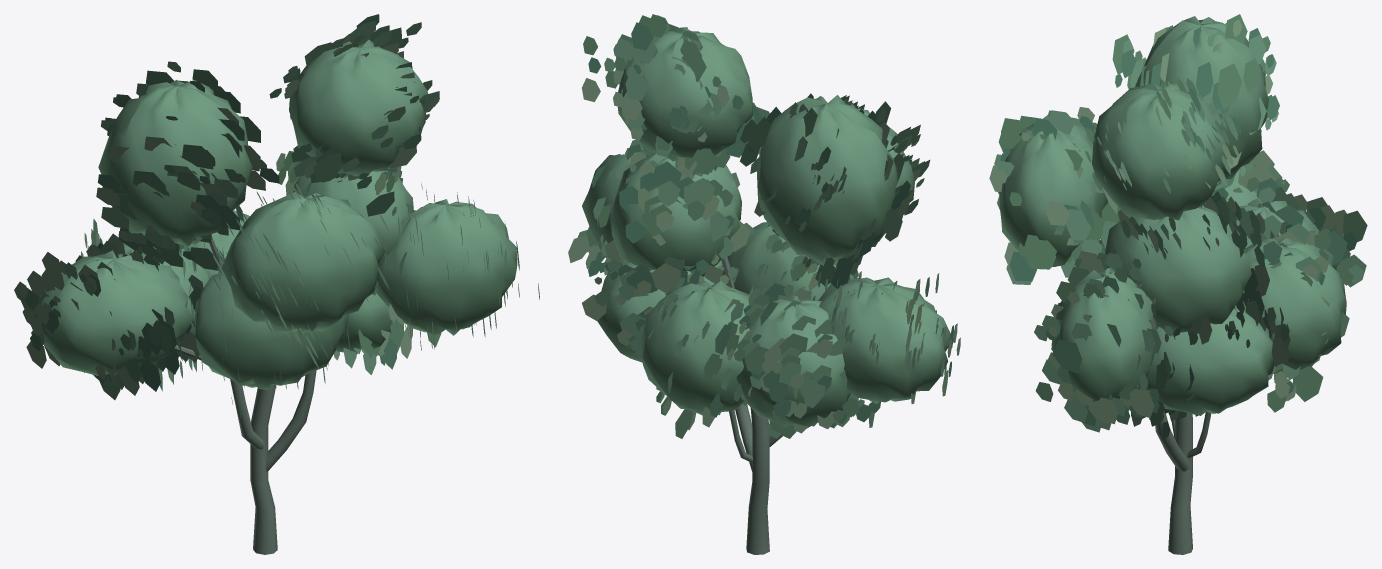
Rendered from anime_tree_grove.glb.
The picture shows the model from 3 angles, left to right: view 1: azimuth 30°, elevation 25°; view 2: azimuth 150°, elevation 25°; view 3: azimuth 270°, elevation 25°; orthographic projection. The views are drawn at different scales.
Parts seen in each view (by area): view 1: Canopy_1, Foliage_2, Canopy_0, Canopy_4, Foliage_0, Canopy_2, Canopy_5, Canopy_9, Trunk, Foliage_1, Canopy_3, Canopy_7 (+2 smaller); view 2: Foliage_2, Foliage_0, Canopy_0, Canopy_5, Canopy_2, Canopy_6, Foliage_1, Canopy_3, Canopy_8, Trunk, Canopy_9, Canopy_7 (+2 smaller); view 3: Foliage_1, Foliage_0, Canopy_2, Canopy_3, Canopy_7, Canopy_1, Canopy_4, Foliage_2, Canopy_0, Canopy_6, Trunk, Canopy_8 (+1 smaller).
Part boxes in pixels (left/top/right/bottom): Canopy_1: left=222, top=192, right=385, bottom=333; Foliage_2: left=14, top=14, right=439, bottom=399; Canopy_0: left=98, top=80, right=252, bottom=245; Canopy_4: left=376, top=199, right=517, bottom=335; Foliage_0: left=96, top=61, right=415, bottom=419; Canopy_2: left=289, top=39, right=428, bottom=176; Canopy_5: left=39, top=250, right=193, bottom=375; Canopy_9: left=194, top=273, right=348, bottom=389; Trunk: left=174, top=236, right=316, bottom=554; Foliage_1: left=212, top=183, right=539, bottom=374; Canopy_3: left=293, top=167, right=413, bottom=267; Canopy_7: left=335, top=293, right=392, bottom=354; Foliage_2: left=582, top=14, right=960, bottom=438; Foliage_0: left=615, top=93, right=910, bottom=438; Canopy_0: left=757, top=95, right=898, bottom=265; Canopy_5: left=818, top=277, right=950, bottom=403; Canopy_2: left=617, top=27, right=752, bottom=161; Canopy_6: left=641, top=280, right=749, bottom=415; Foliage_1: left=568, top=95, right=930, bottom=357; Canopy_3: left=611, top=152, right=741, bottom=276; Canopy_8: left=736, top=295, right=850, bottom=428; Trunk: left=720, top=256, right=804, bottom=554; Canopy_9: left=722, top=222, right=853, bottom=300; Canopy_7: left=597, top=258, right=722, bottom=362; Foliage_1: left=989, top=107, right=1290, bottom=438; Foliage_0: left=1099, top=14, right=1366, bottom=412; Canopy_2: left=1092, top=83, right=1229, bottom=220; Canopy_3: left=1105, top=205, right=1251, bottom=332; Canopy_7: left=1146, top=301, right=1274, bottom=415; Canopy_1: left=999, top=115, right=1107, bottom=266; Canopy_4: left=1051, top=267, right=1155, bottom=401; Foliage_2: left=1080, top=78, right=1367, bottom=270; Canopy_0: left=1135, top=16, right=1268, bottom=186; Canopy_6: left=1242, top=238, right=1346, bottom=374; Trunk: left=1155, top=411, right=1211, bottom=554; Canopy_8: left=1236, top=198, right=1332, bottom=266.
Bounding box in the file's own units: 7.38 × 8.3 × 5.51.
